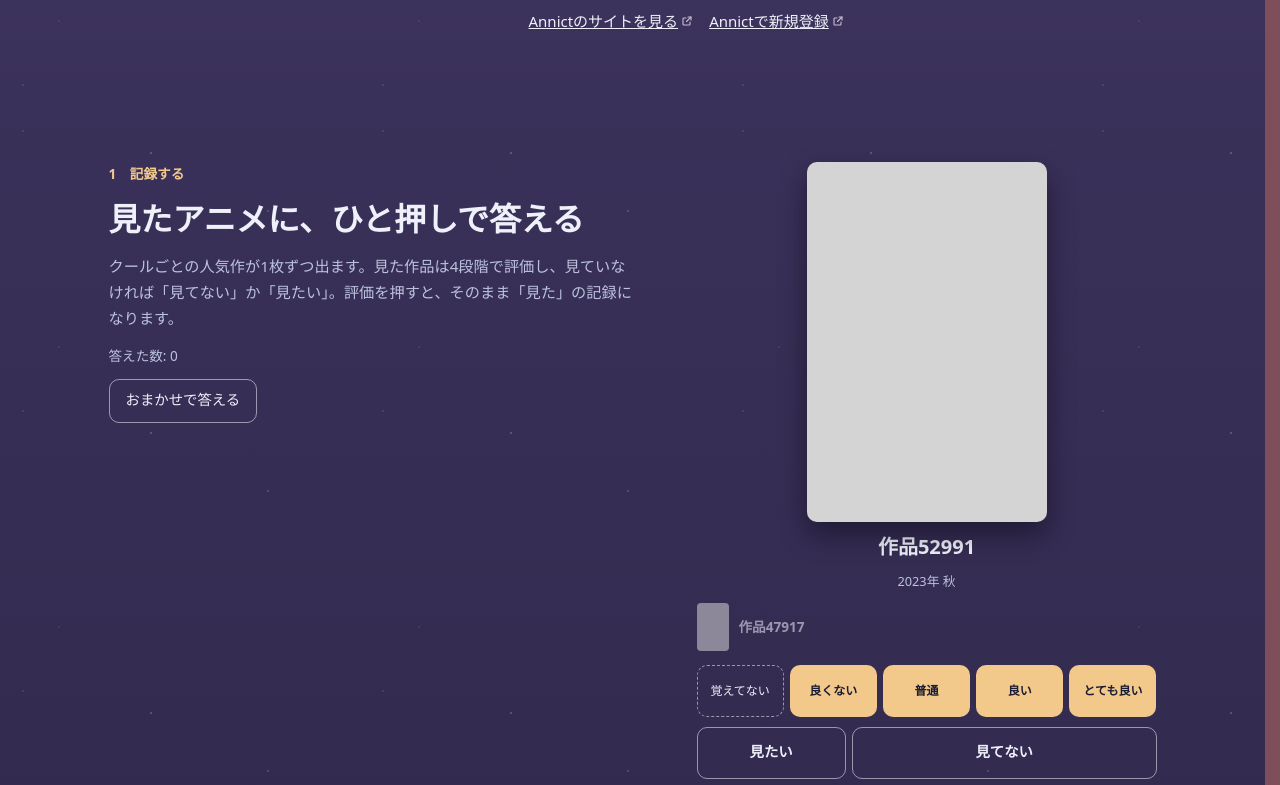
Scenario: Landing › keeps the demo answers on the page only
(page scrolled)
Click the button "おまかせで答える" at (183, 401), box top-left (108, 379), bottom-right (257, 423)
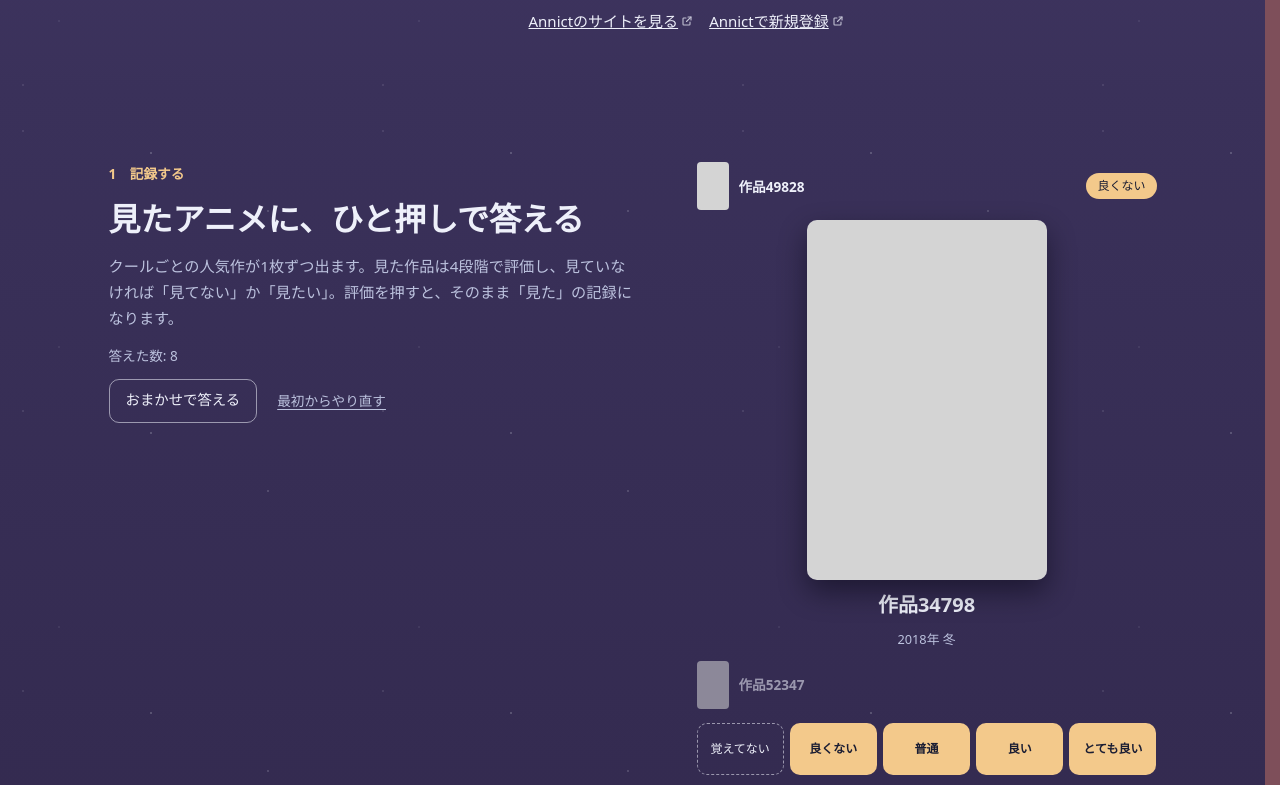
Check: the text "答えた数: 8" is shown, box top-left (108, 346), bottom-right (178, 364)
Click the button "最初からやり直す" at (332, 401), box top-left (273, 379), bottom-right (390, 423)
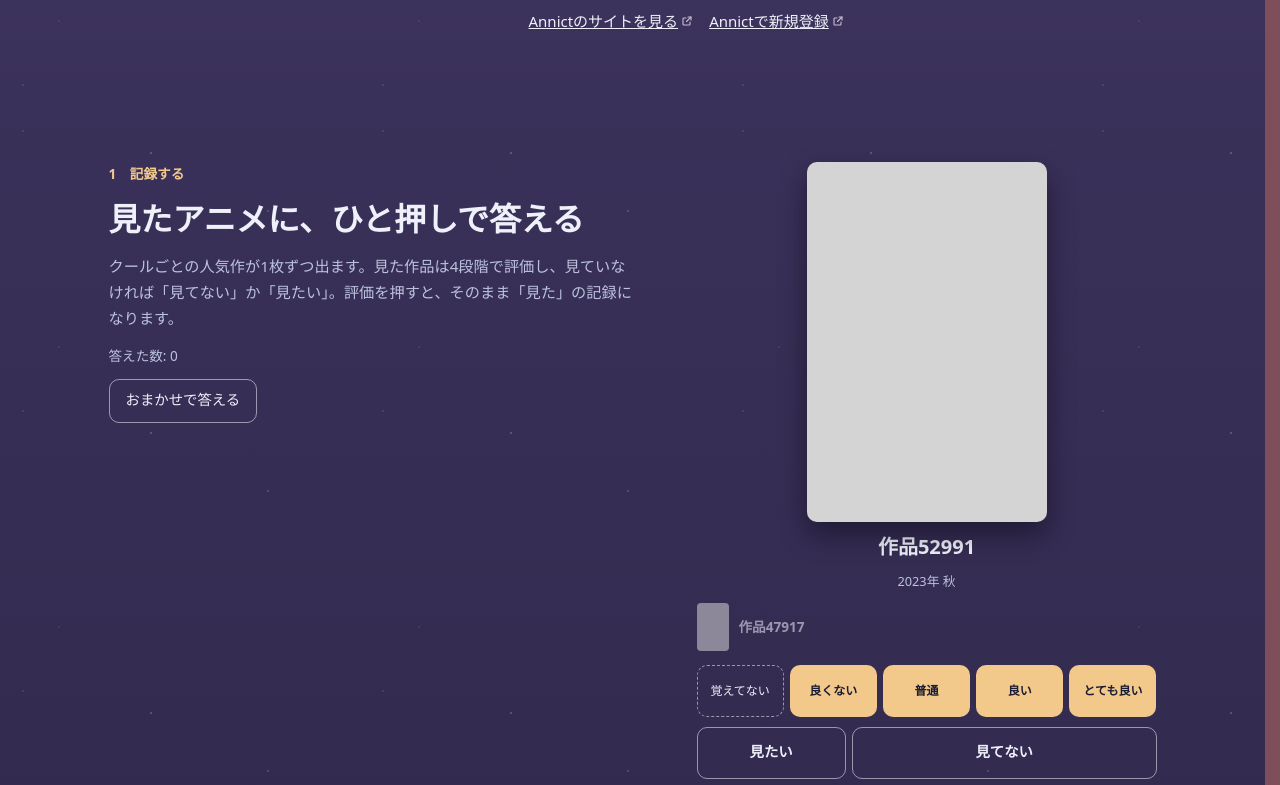
Check: the text "答えた数: 0" is shown, box top-left (108, 346), bottom-right (178, 364)
